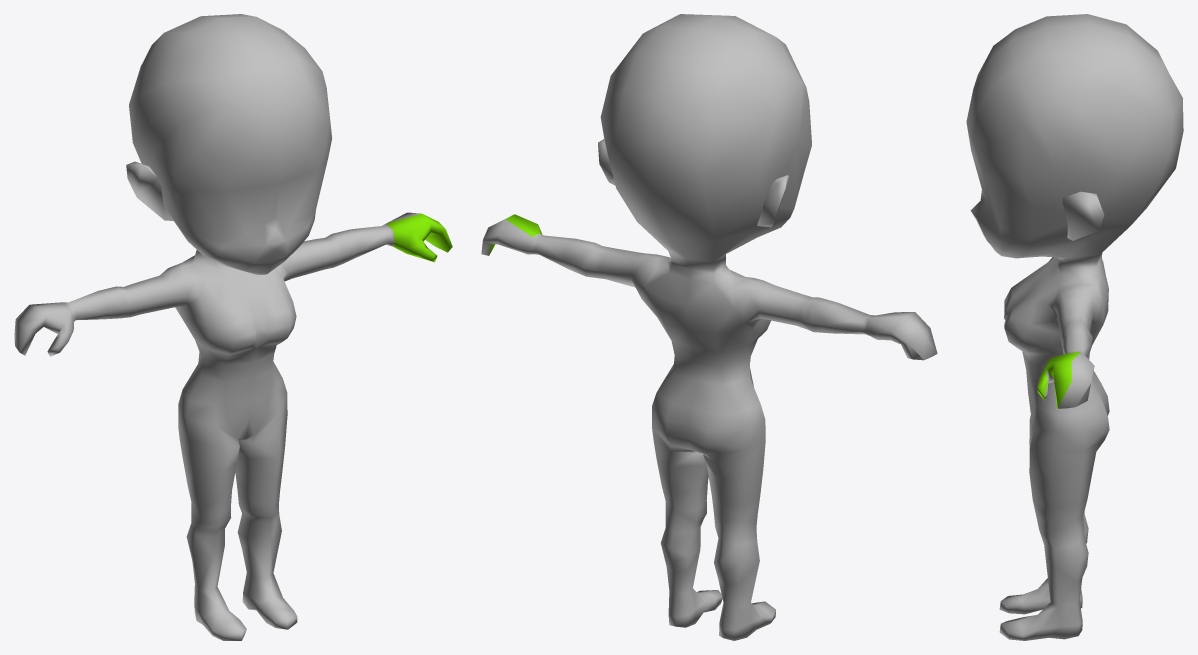
File: WD00_WEP_SRD00001.fbx
The picture shows the model from 3 angles, left to right: view 1: azimuth 30°, elevation 25°; view 2: azimuth 150°, elevation 25°; view 3: azimuth 270°, elevation 25°; orthographic projection. The views are drawn at different scales.
Parts seen in each view (by area): view 1: A; view 2: A; view 3: A.
Boxes of the visible parts, left/top/right/bottom form: A: left=14, top=14, right=452, bottom=640; A: left=481, top=14, right=937, bottom=640; A: left=966, top=14, right=1183, bottom=640.
Size of the model in its own units: 12.99 by 16.75 by 5.53.
